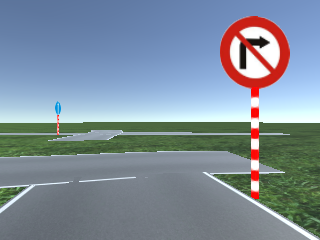-15: (1, 201, 320, 240)
NoRight: (219, 16, 290, 89)
